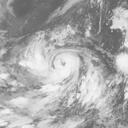cyclone: (33, 32, 100, 95)
